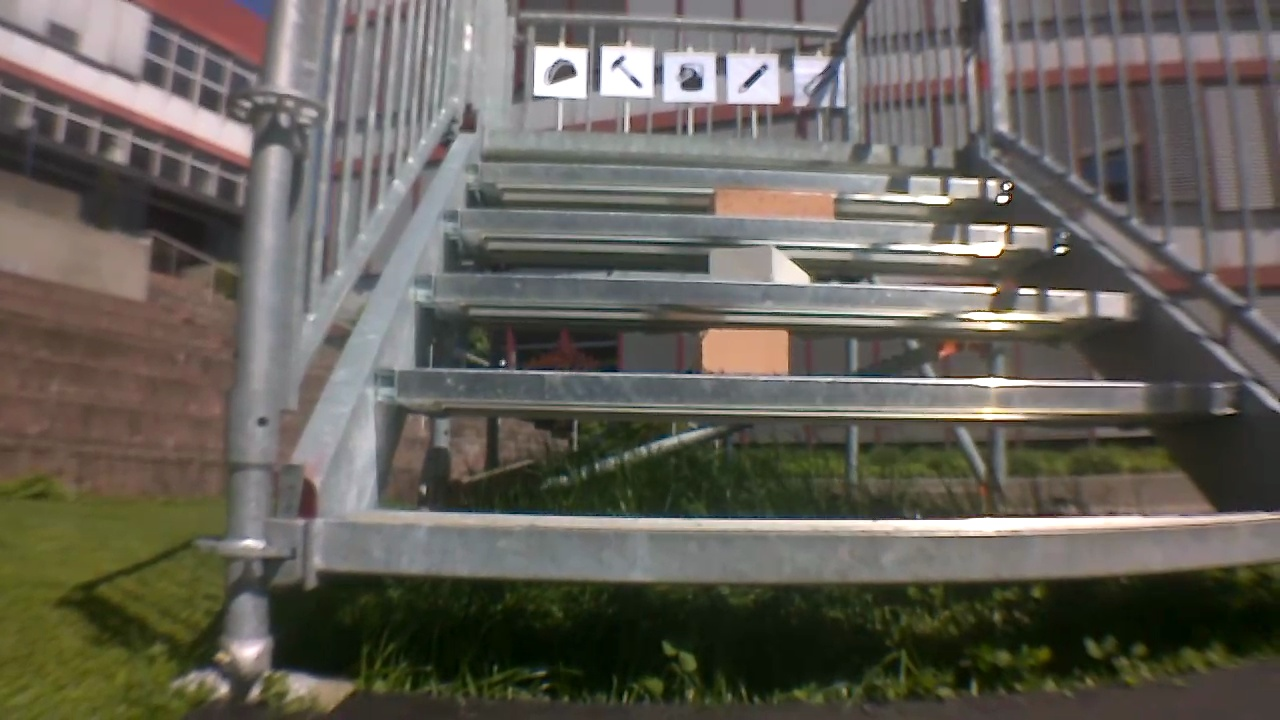brick: (692, 326, 793, 379), (702, 248, 813, 282), (708, 189, 832, 218)
edge: (319, 516, 1280, 568), (408, 276, 1139, 311), (364, 377, 1244, 405), (433, 214, 1070, 250), (453, 165, 1012, 195), (482, 132, 974, 157)
stairs: (212, 0, 1280, 701)
steps: (305, 131, 1280, 579)
